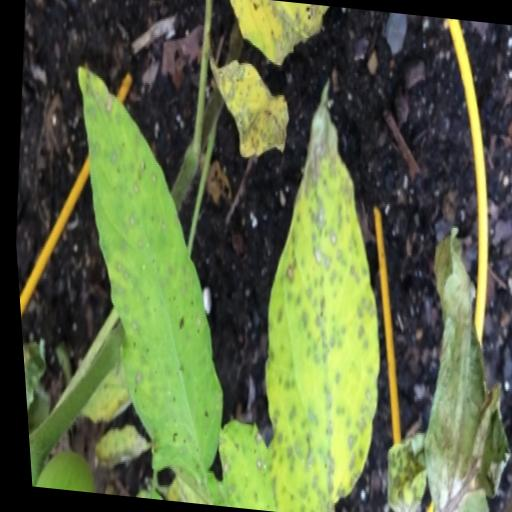Septoria: (31, 56, 260, 490), (231, 69, 414, 507), (199, 49, 300, 166)
